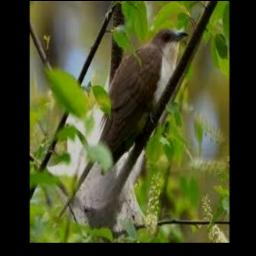Cuckoo: (59, 27, 188, 217)
